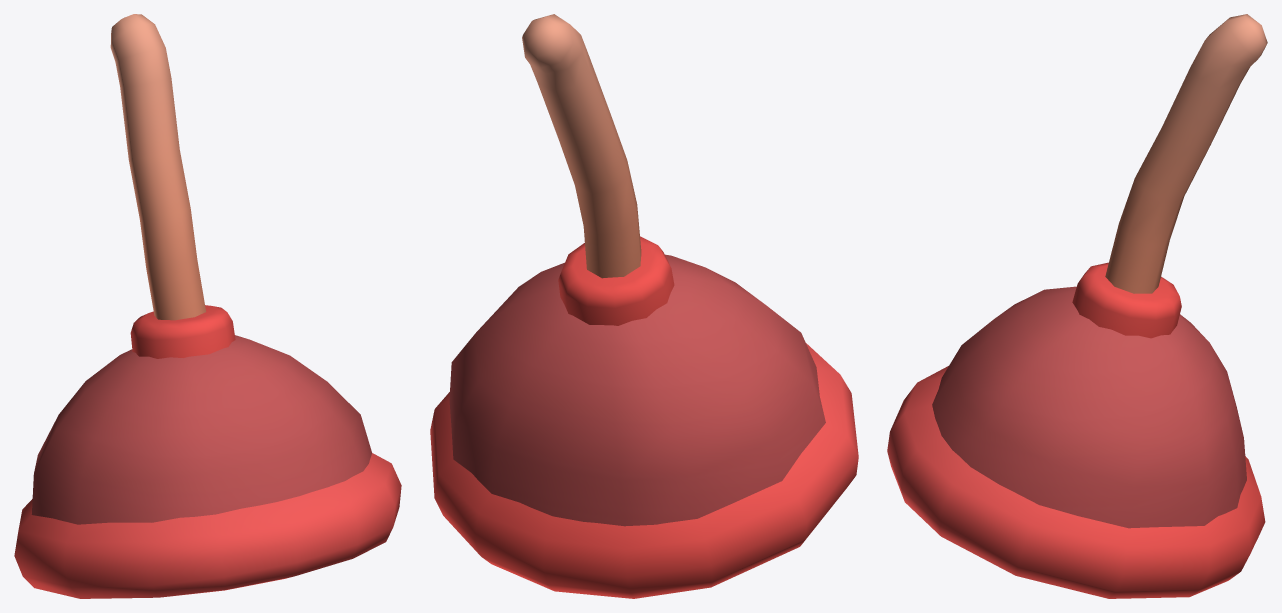
File: Hat_06.glb
The picture shows the model from 3 angles, left to right: view 1: azimuth 30°, elevation 25°; view 2: azimuth 150°, elevation 25°; view 3: azimuth 270°, elevation 25°; orthographic projection. The views are drawn at different scales.
Parts seen in each view (by area): view 1: Hat_06; view 2: Hat_06; view 3: Hat_06.
Boxes of the visible parts, bbox=[...] form: Hat_06: bbox=[14, 14, 401, 598]; Hat_06: bbox=[430, 14, 858, 598]; Hat_06: bbox=[887, 14, 1267, 598].
Size of the model in its own units: 0.6766 by 0.9829 by 0.6287.
1 material, 1 textured.
